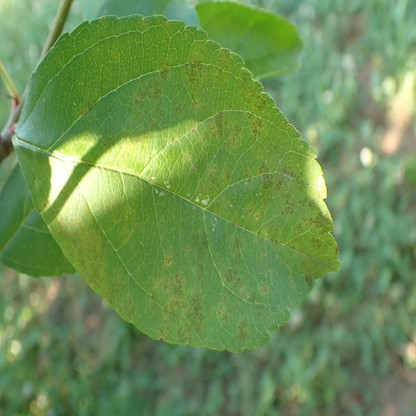scab: (31, 16, 338, 345)
